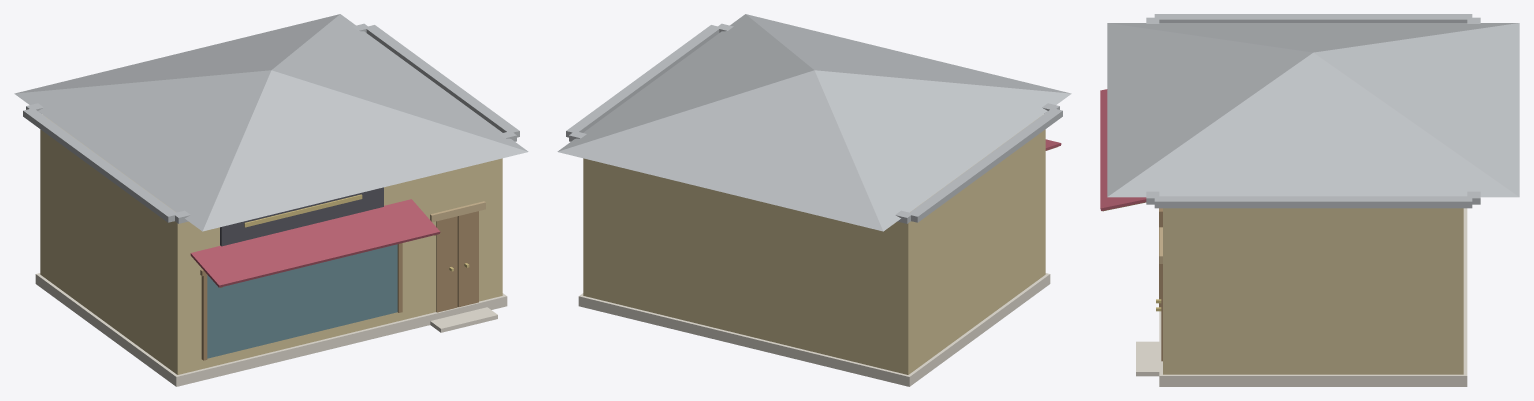
Rendered from mdl_buildings_shop_facade_001.glb.
3 renders of one model, left to right at view 1: azimuth 30°, elevation 25°; view 2: azimuth 150°, elevation 25°; view 3: azimuth 270°, elevation 25°, orthographic. The views are drawn at different scales.
Visible parts, largest first — view 1: m_zinc, m_fachada, m_vidrio_petroleo, m_carmesi, m_caliza, m_madera, m_carbon, m_oro_viejo, m_madera_clara; view 2: m_fachada, m_zinc, m_caliza; view 3: m_zinc, m_fachada, m_caliza, m_carmesi, m_madera.
Part boxes in pixels (bbox=[...]): m_zinc: bbox=[14, 14, 528, 231]; m_fachada: bbox=[40, 117, 502, 374]; m_vidrio_petroleo: bbox=[207, 244, 397, 358]; m_carmesi: bbox=[190, 199, 440, 287]; m_caliza: bbox=[35, 273, 507, 386]; m_madera: bbox=[200, 211, 478, 360]; m_carbon: bbox=[220, 187, 383, 246]; m_oro_viejo: bbox=[244, 194, 469, 271]; m_madera_clara: bbox=[430, 201, 485, 222]; m_fachada: bbox=[583, 117, 1045, 374]; m_zinc: bbox=[557, 14, 1071, 231]; m_caliza: bbox=[578, 273, 1050, 386]; m_zinc: bbox=[1107, 14, 1519, 208]; m_fachada: bbox=[1163, 208, 1463, 374]; m_caliza: bbox=[1136, 208, 1467, 386]; m_carmesi: bbox=[1100, 89, 1146, 210]; m_madera: bbox=[1102, 202, 1162, 361].
Size of the model in its own units: 7.39 by 4.51 by 6.97.
